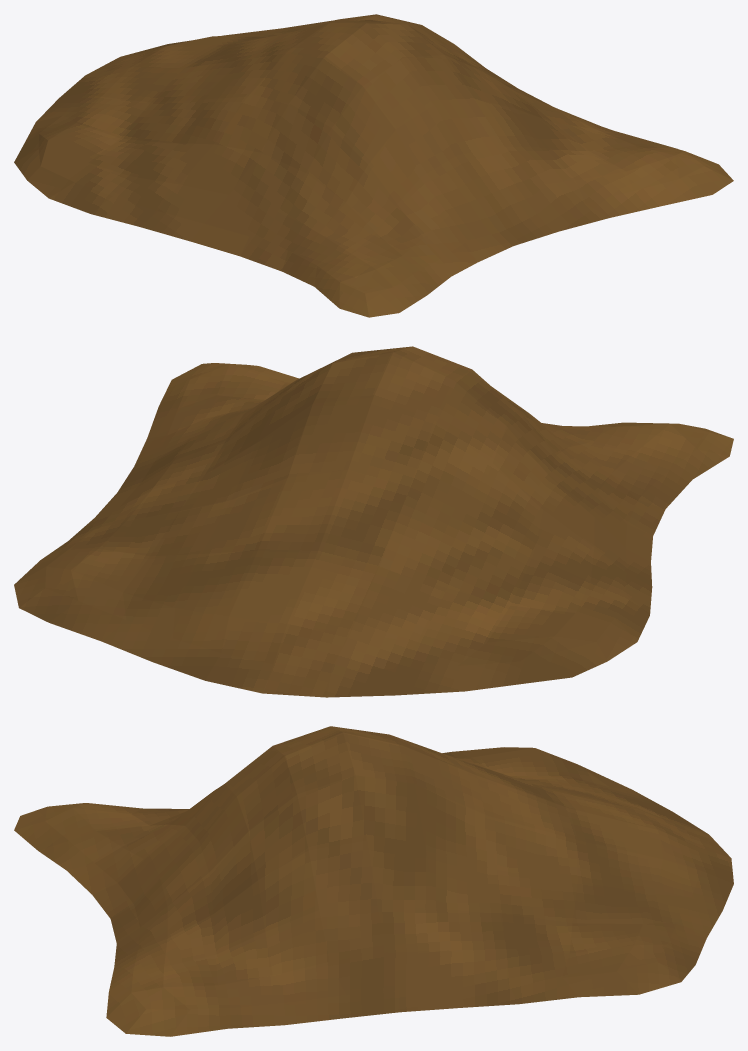
The model's file is dirt.glb.
The picture shows the model from 3 angles, top to bottom: view 1: azimuth 30°, elevation 25°; view 2: azimuth 150°, elevation 25°; view 3: azimuth 270°, elevation 25°; orthographic projection. The views are drawn at different scales.
Visible parts, largest first — view 1: Dirt; view 2: Dirt; view 3: Dirt.
Boxes of the visible parts, <box> form: Dirt: <box>14,14,733,317</box>; Dirt: <box>14,346,733,697</box>; Dirt: <box>14,726,733,1036</box>.
Size of the model in its own units: 1.5 by 0.4837 by 1.61.
1 material, 1 textured.
